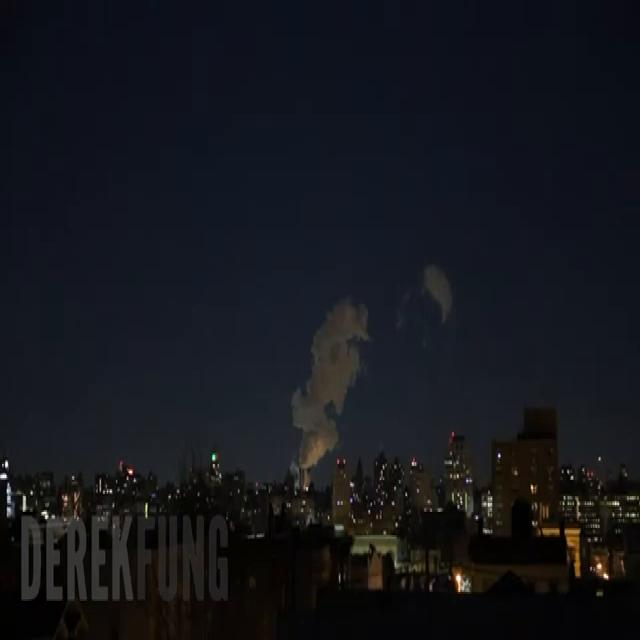smoke: (292, 297, 368, 489)
